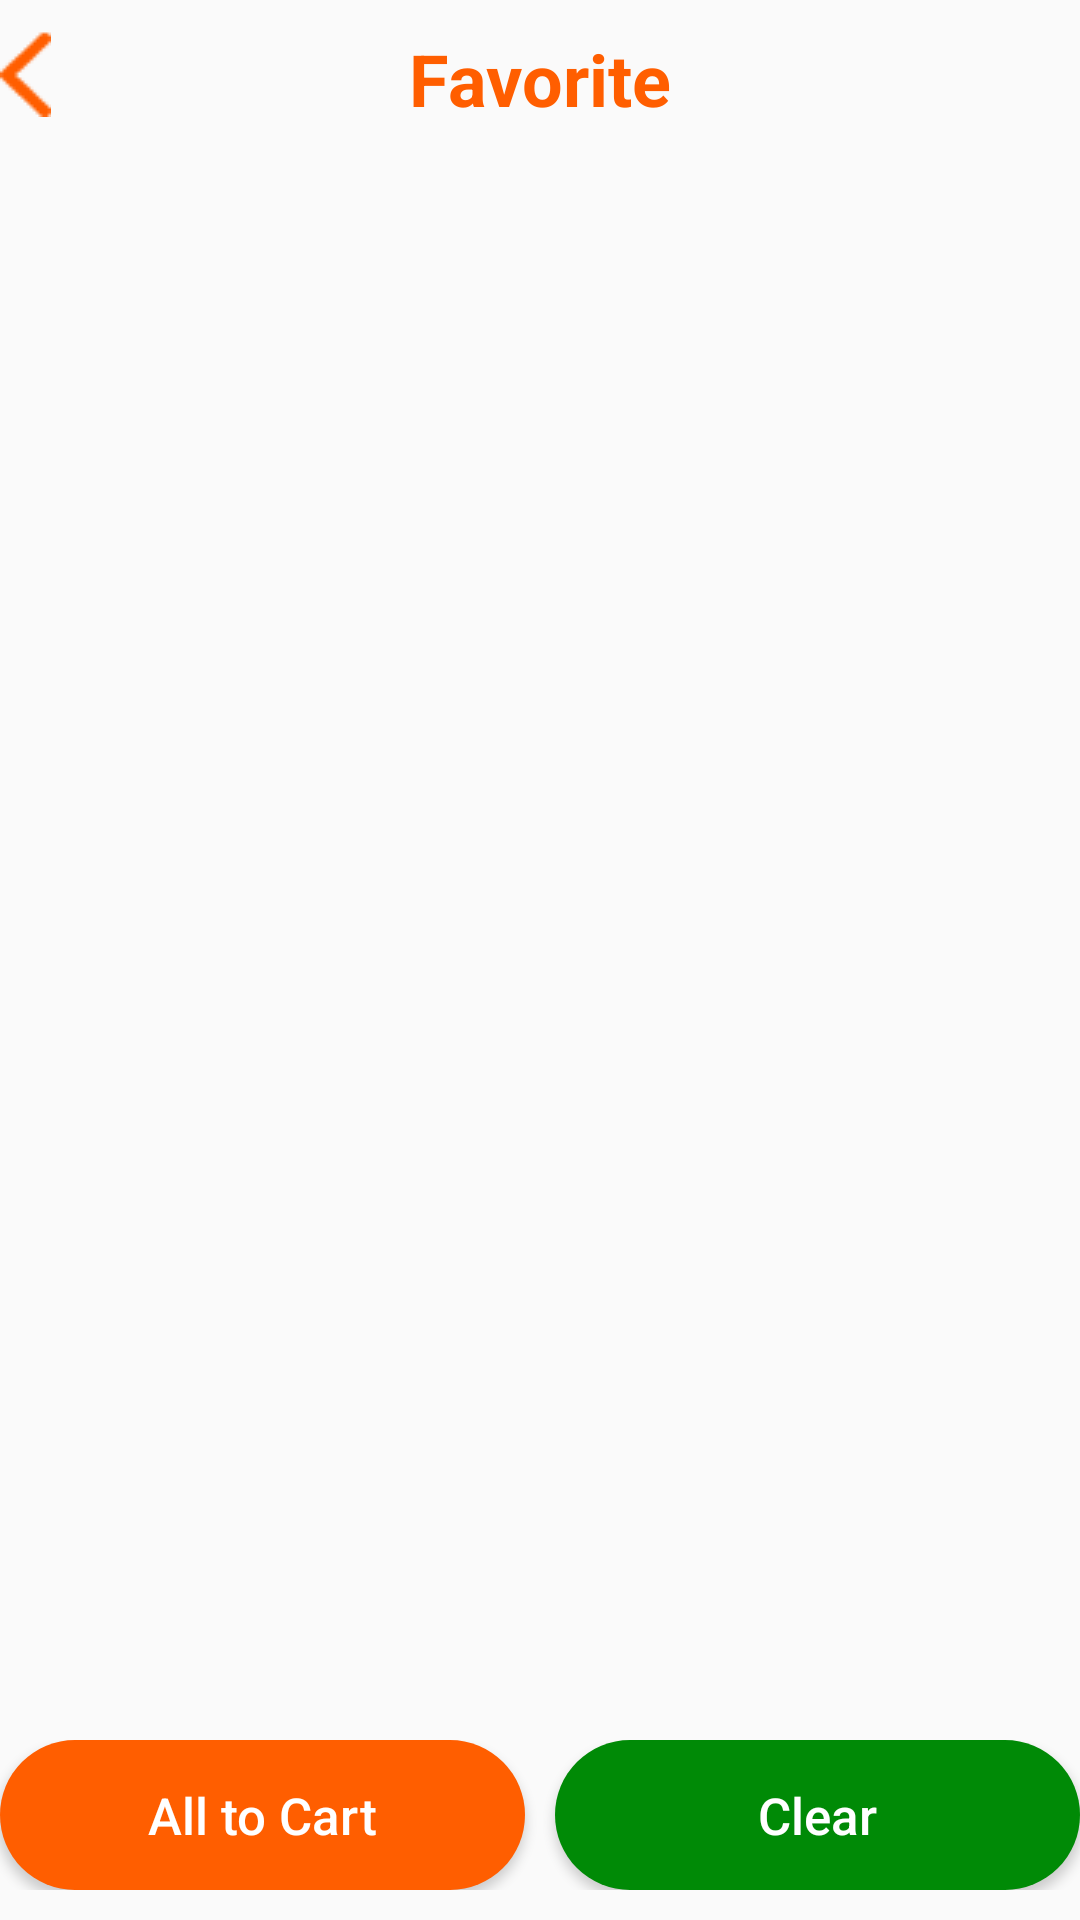

Screen size 1080*1920. Icon name, then its center in pixels as [x,y]:
back: [25,74]
